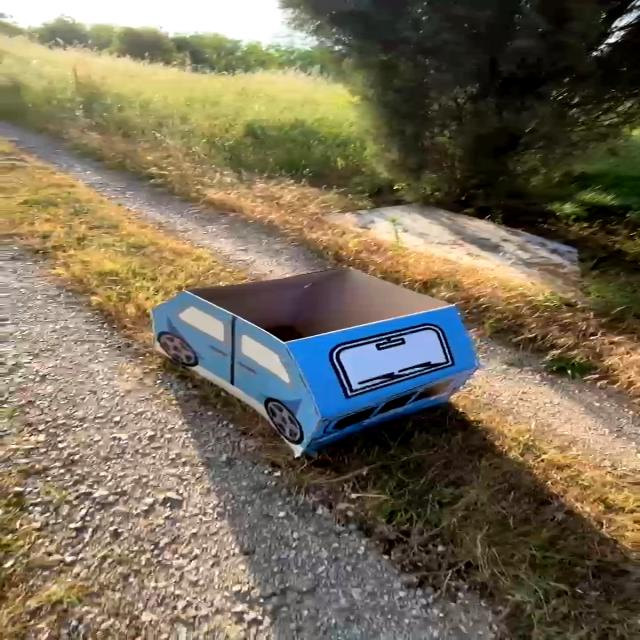blue_car: (120, 238, 535, 471)
